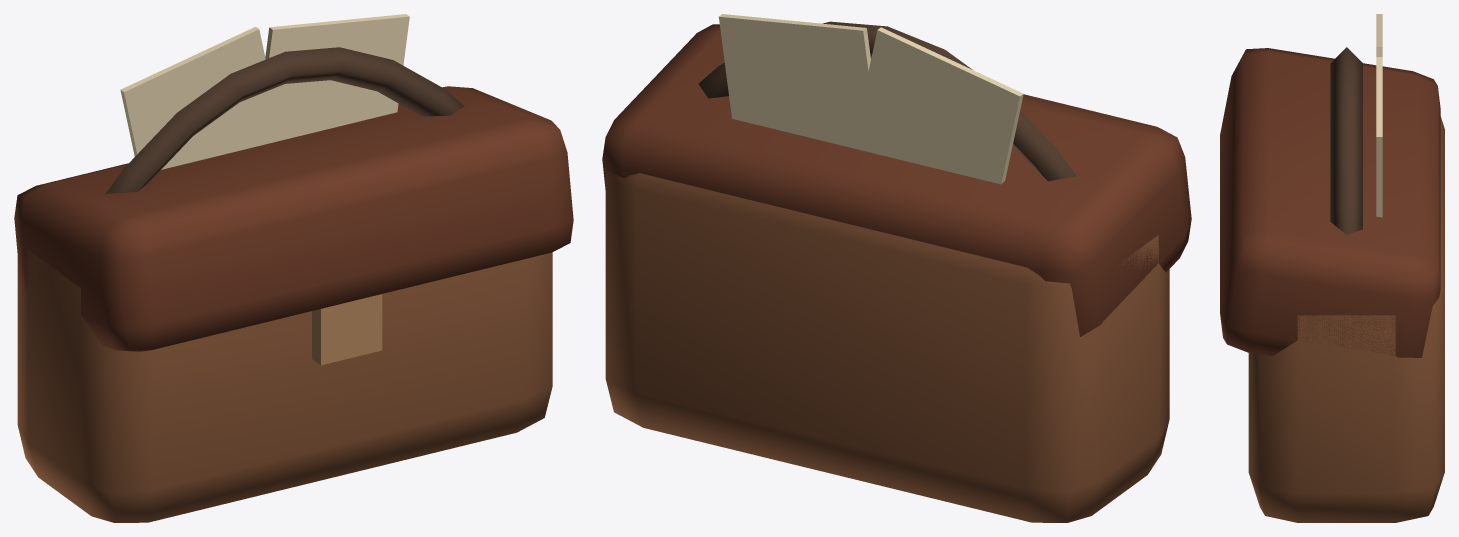
File: satchel.glb
3 views of the same model, side by side, from view 1: azimuth 30°, elevation 25°; view 2: azimuth 150°, elevation 25°; view 3: azimuth 270°, elevation 25° (orthographic). The views are drawn at different scales.
Parts seen in each view (by area): view 1: satchel; view 2: satchel; view 3: satchel.
Part boxes in pixels (x1=…): satchel: x1=14, y1=14, x2=573, y2=522; satchel: x1=602, y1=14, x2=1191, y2=522; satchel: x1=1220, y1=14, x2=1444, y2=522.
Size of the model in its own units: 0.3 by 0.2583 by 0.1375.
